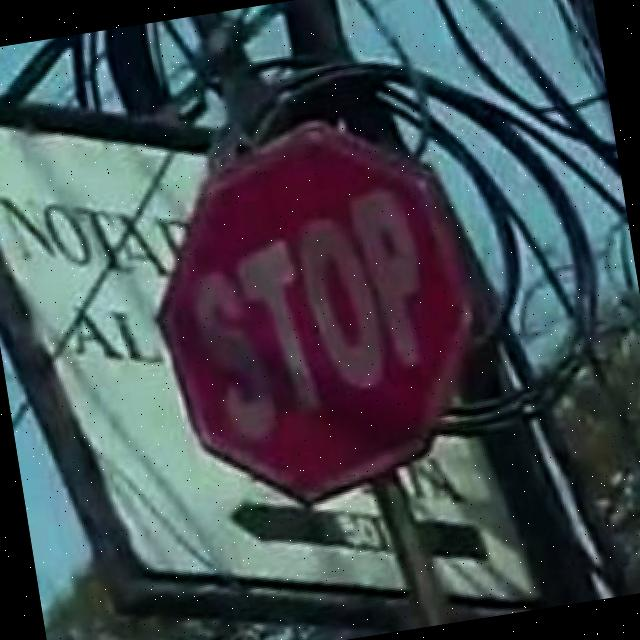Stop: (141, 134, 496, 508)
